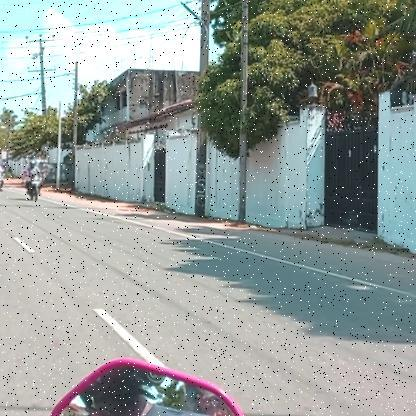motorcycle: (22, 172, 46, 204), (1, 171, 7, 199)
